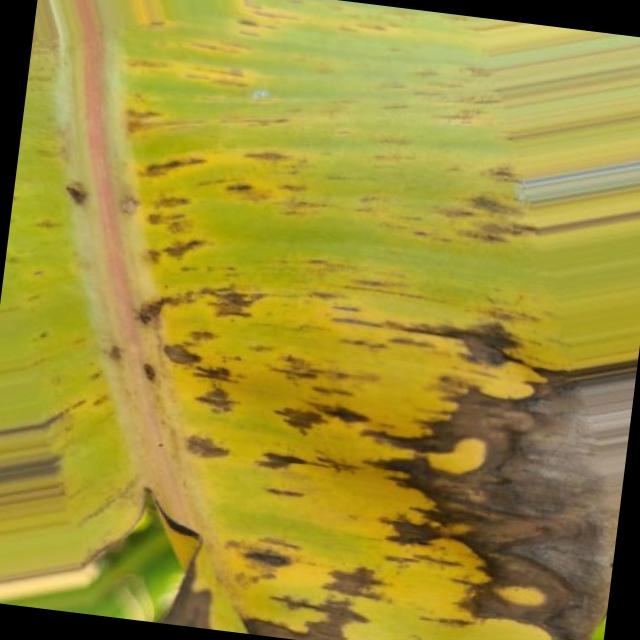Banana_Black_Sigatoka: (89, 184, 640, 640)
